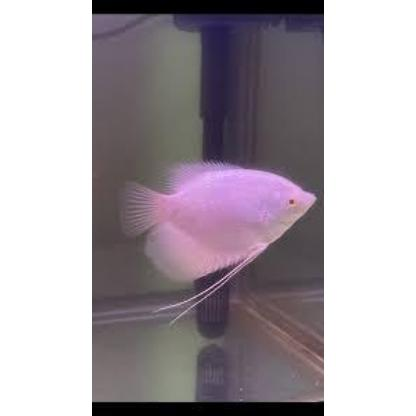gurame: (112, 162, 322, 296)
